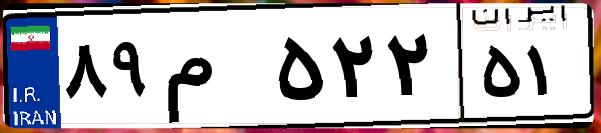1: (525, 38, 570, 115)
2: (385, 28, 445, 110), (330, 28, 385, 110)
5: (270, 28, 330, 110), (475, 38, 525, 113)
8: (57, 26, 110, 100)
9: (110, 28, 158, 98)
م: (158, 20, 270, 120)
